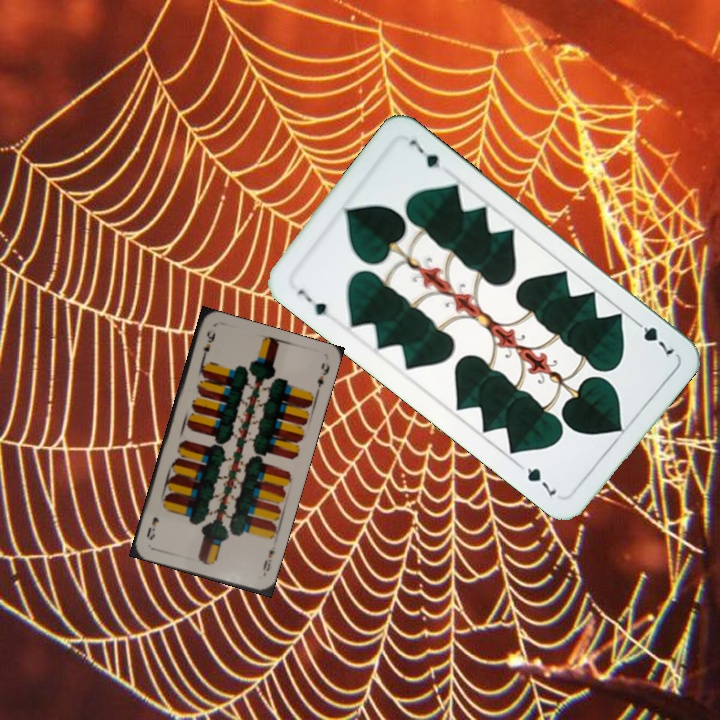E9: (198, 325, 218, 364), (258, 546, 277, 574)
G7: (628, 315, 678, 358), (293, 285, 330, 319)
